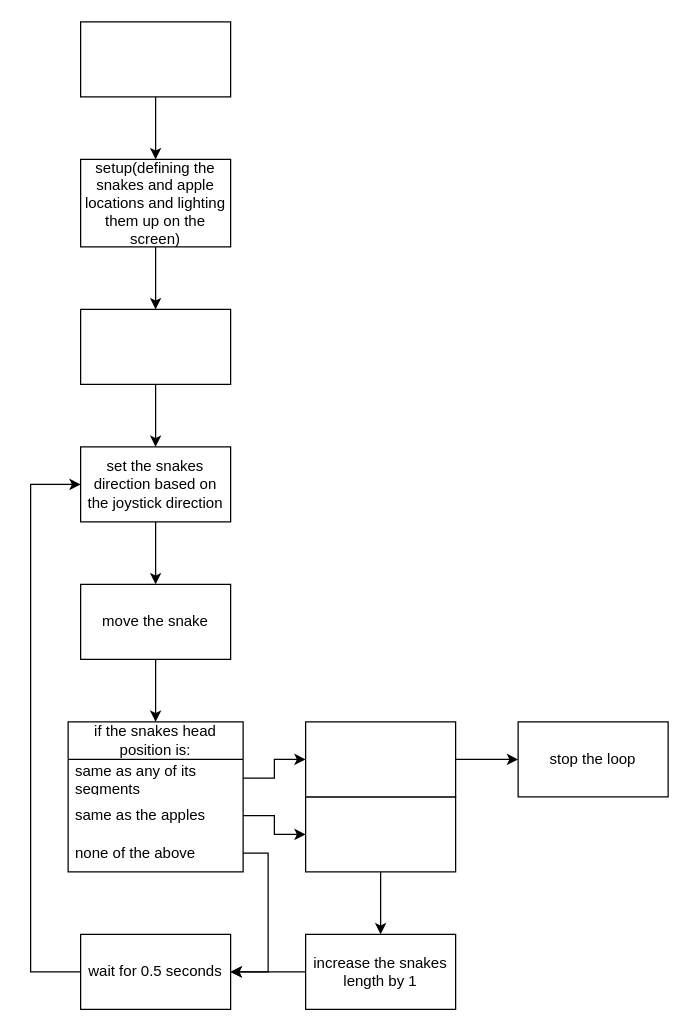
The diagram is 690 pixels wide and 1031 high, and some of its shapes have lost their labels. The shapes that lost their labels are listed below. From the top down, each one's centre as x and y in pixels, then its label:
[155,59]: "start snake" was called
[155,346]: wait for joystick input
[380,759]: trigger the losing animation
[380,834]: spawn a new apple
